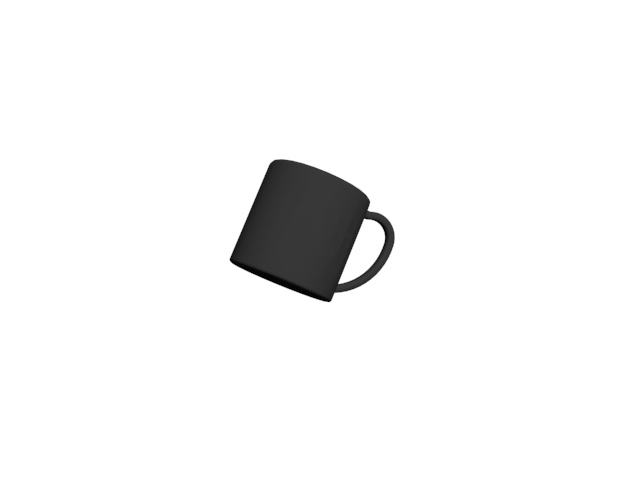mug: (225, 153, 400, 304)
